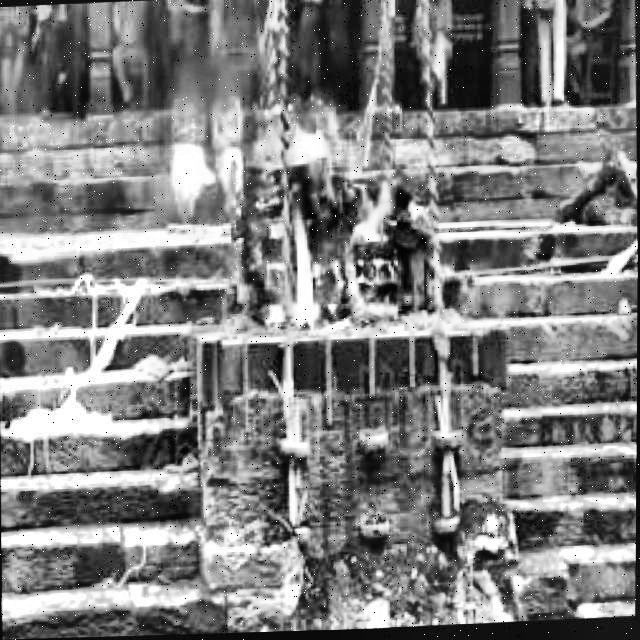Fire: (282, 93, 399, 329)
